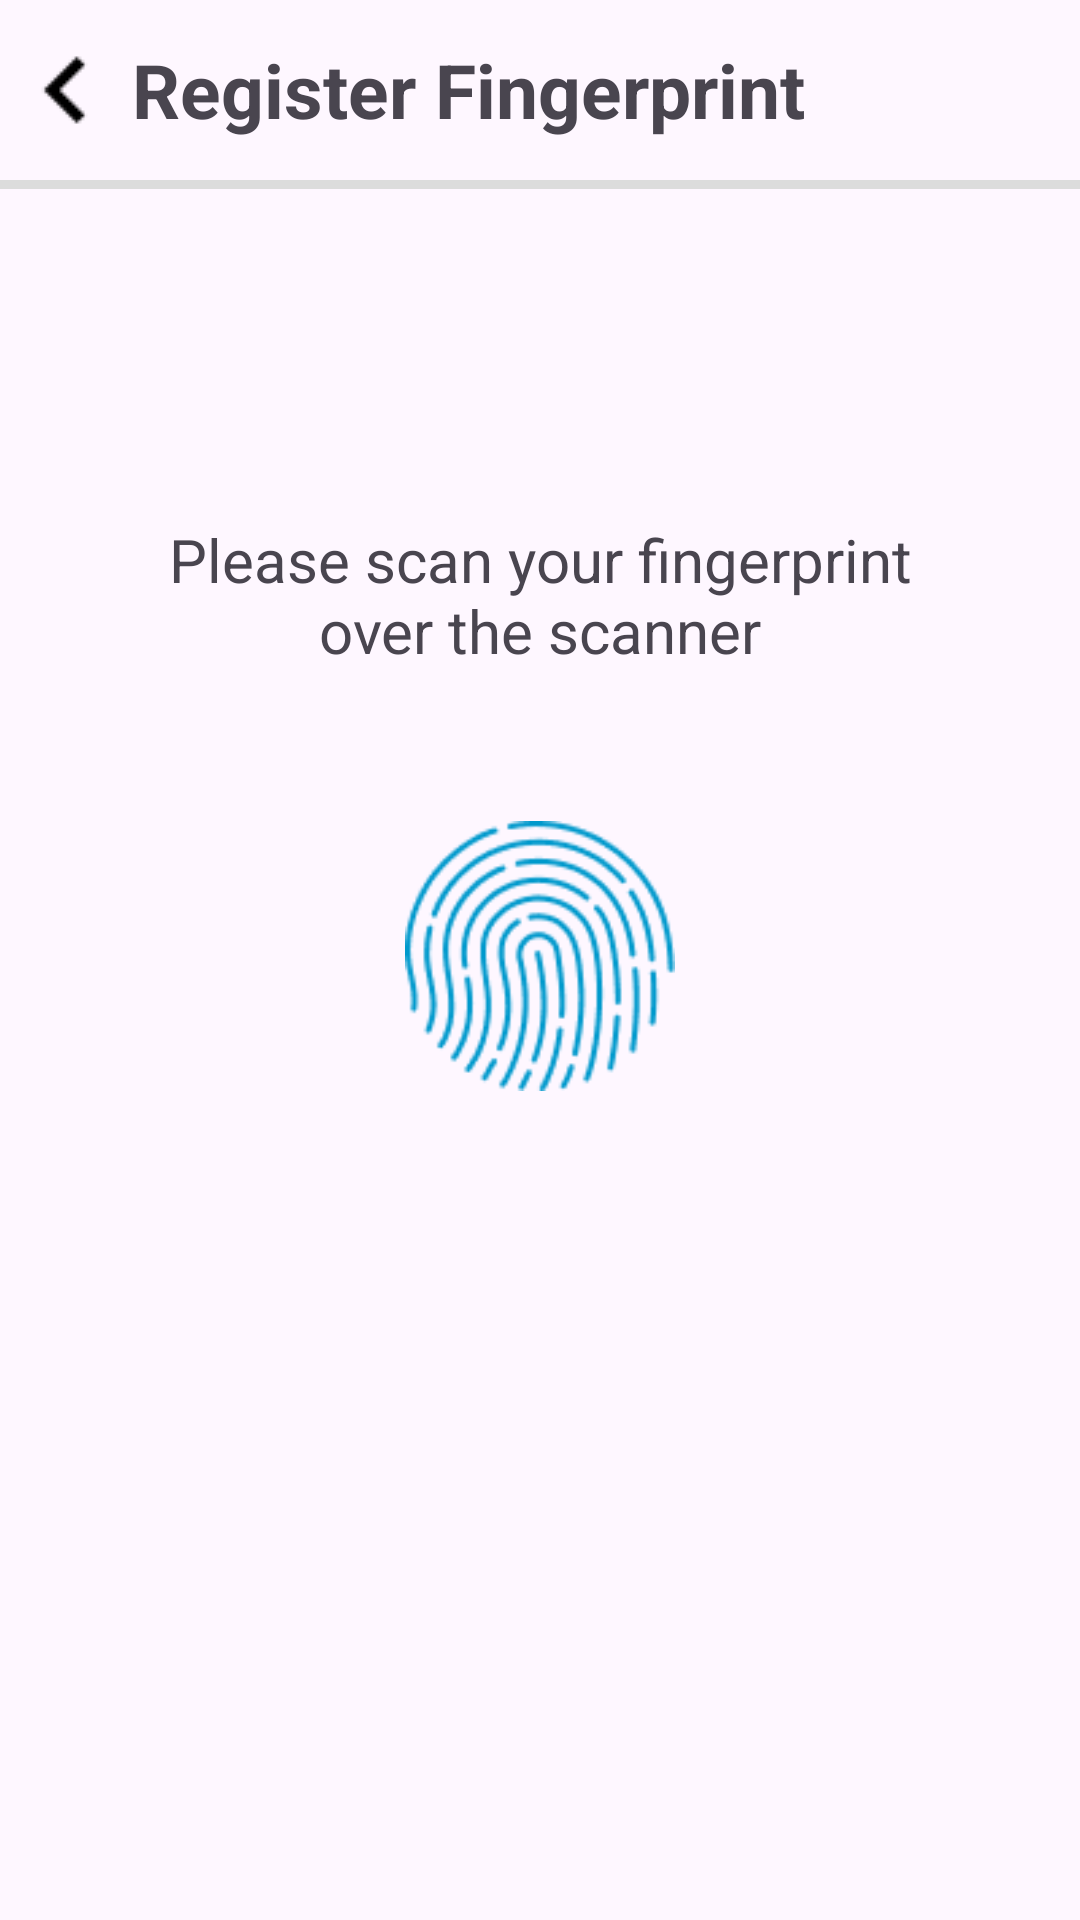

Where to tap for icons on this 1080*1920 app screen, as (x=x, y=y):
touch id: (x=540, y=956)
